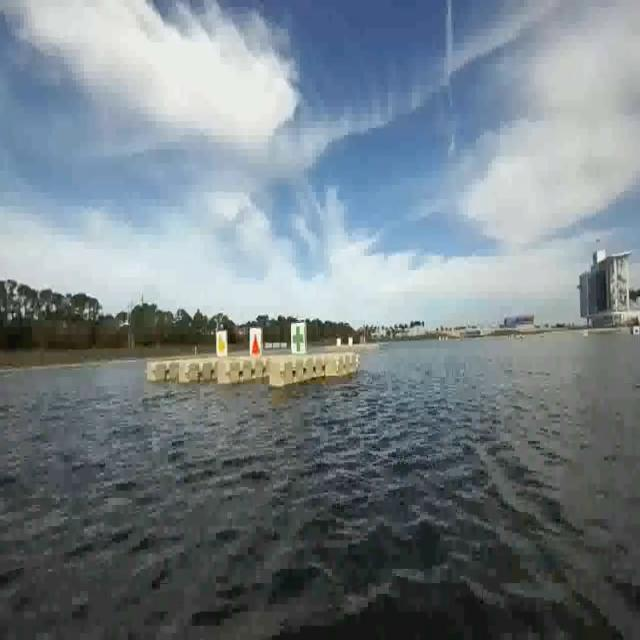blue-cross: (291, 322, 307, 358)
red-dot: (249, 326, 262, 356)
yellow-duck: (216, 334, 227, 358)
